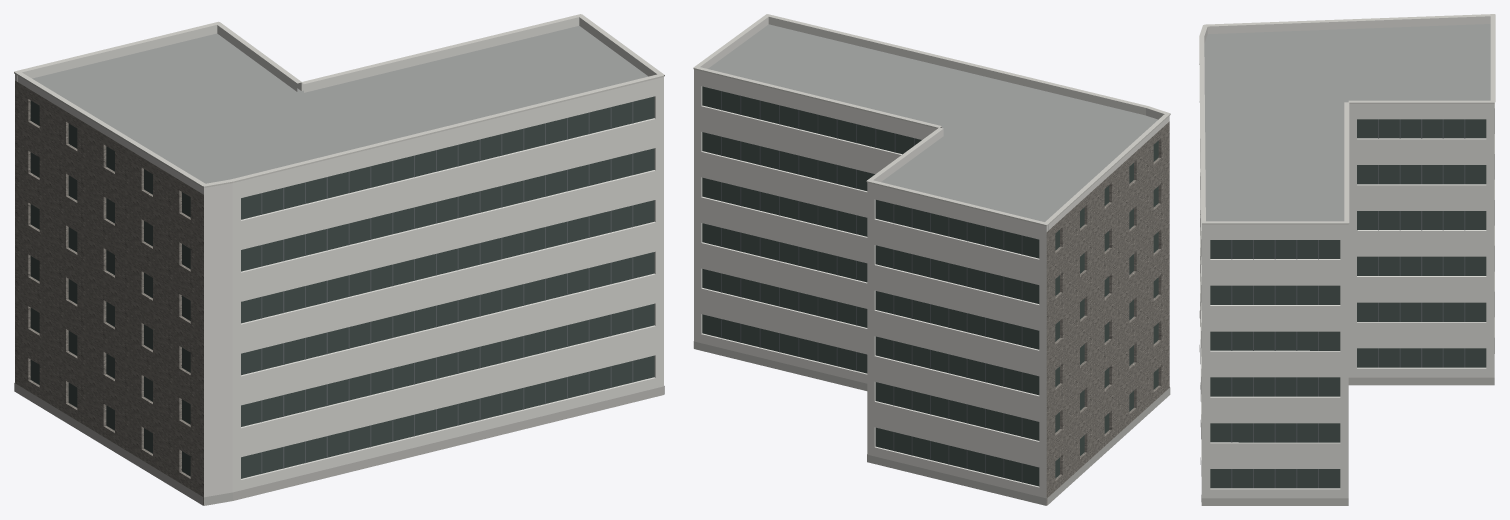
3 renders of one model, left to right at view 1: azimuth 30°, elevation 25°; view 2: azimuth 150°, elevation 25°; view 3: azimuth 270°, elevation 25°, orthographic. The views are drawn at different scales.
Visible parts, largest first — view 1: togeon__wall, togeon__glass, togeon__wall2, togeon__roof, togeon__parapet, togeon__base, togeon__trim, togeon__frame; view 2: togeon__wall, togeon__glass, togeon__roof, togeon__wall2, togeon__parapet, togeon__trim, togeon__base, togeon__frame; view 3: togeon__wall, togeon__roof, togeon__glass, togeon__trim, togeon__parapet, togeon__base, togeon__frame.
Boxes of the visible parts, x1,y1,x2,y2 form: togeon__wall: [204, 84, 663, 497]; togeon__glass: [30, 96, 654, 478]; togeon__wall2: [15, 80, 203, 505]; togeon__roof: [32, 26, 648, 183]; togeon__parapet: [15, 17, 663, 194]; togeon__base: [14, 382, 664, 505]; togeon__trim: [14, 14, 664, 187]; togeon__frame: [261, 102, 633, 473]; togeon__wall: [694, 75, 1046, 505]; togeon__glass: [702, 86, 1158, 486]; togeon__roof: [708, 24, 1157, 221]; togeon__wall2: [1046, 121, 1169, 505]; togeon__parapet: [694, 17, 1169, 232]; togeon__trim: [693, 14, 1170, 225]; togeon__base: [693, 341, 1170, 505]; togeon__frame: [721, 91, 1022, 482]; togeon__wall: [1200, 102, 1494, 498]; togeon__roof: [1204, 24, 1490, 221]; togeon__glass: [1210, 119, 1486, 488]; togeon__trim: [1199, 14, 1495, 224]; togeon__parapet: [1201, 16, 1494, 230]; togeon__base: [1199, 311, 1494, 505]; togeon__frame: [1231, 119, 1465, 488].
Bounding box in the file's own units: 35.27 × 22.2 × 21.1.
Materials: 8 (1 with a texture image).
